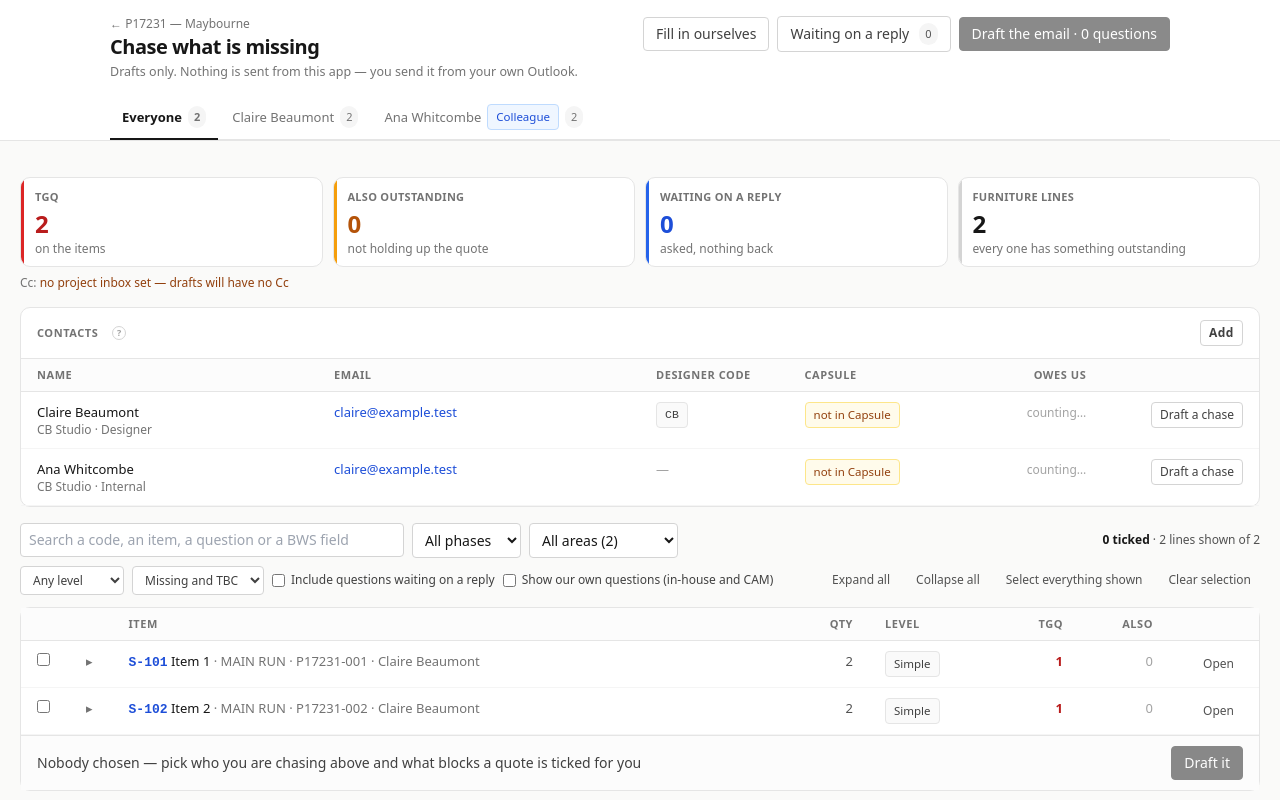
the chase screen's contacts and counts (review 3.8) › with contacts recorded, the form opens from the card's own Add and closes with Cancel
This screenshot has width=1280, height=800.
Expected: the heading "Contacts ? Add" is shown, [21,308,1259,358]
Expected: the button "Add contact" is not shown
Click the button "Add". click: click(1221, 332)
box: [1200,320,1243,346]
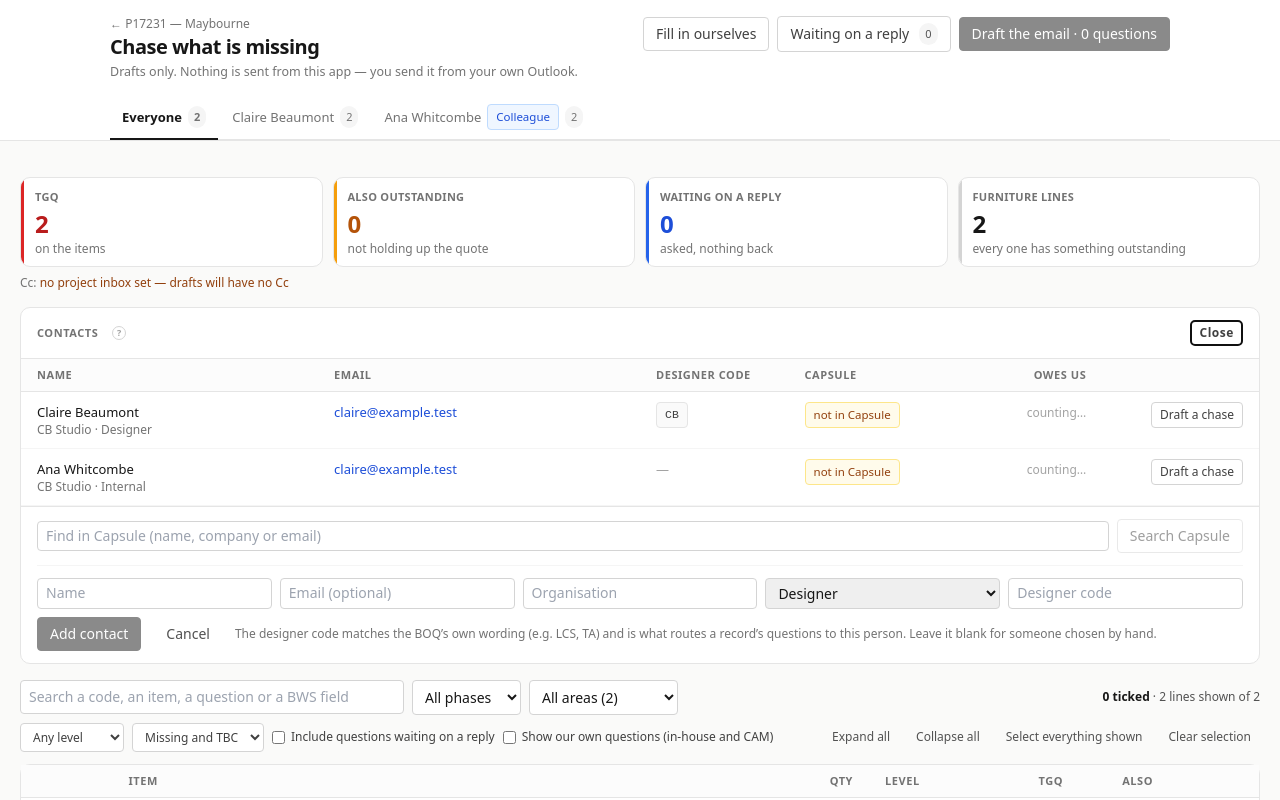
Now the button "Add contact" is shown, box [37,616,141,650]
Click the button "Cancel". click: click(188, 634)
box: [153,616,223,650]
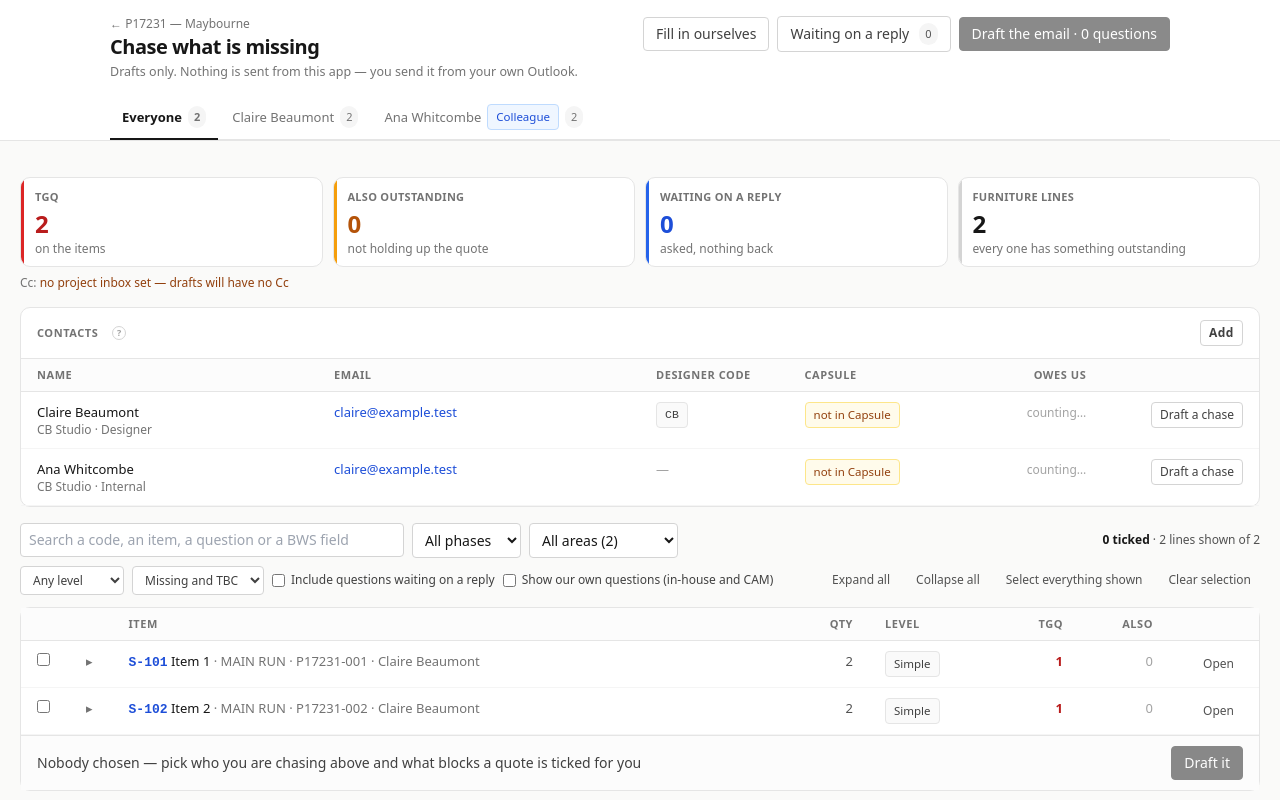
Now the button "Add contact" is gone
